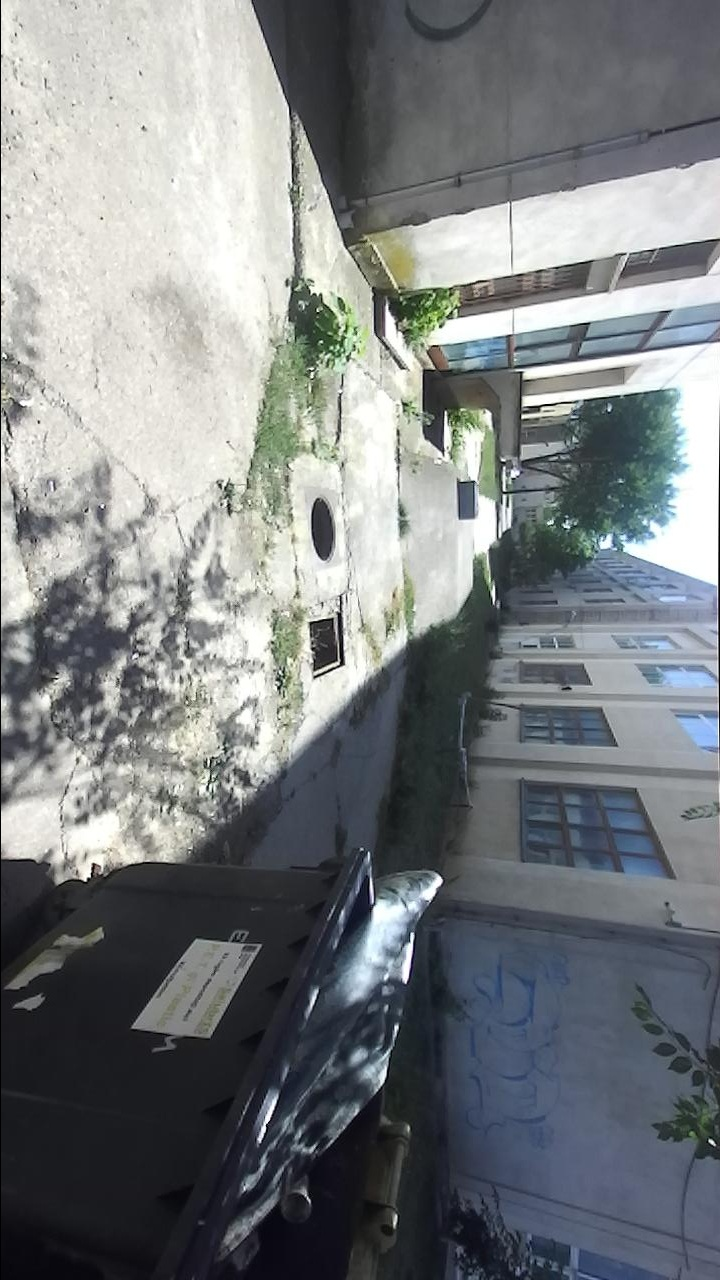drain: (307, 605, 347, 680), (309, 494, 341, 567)
